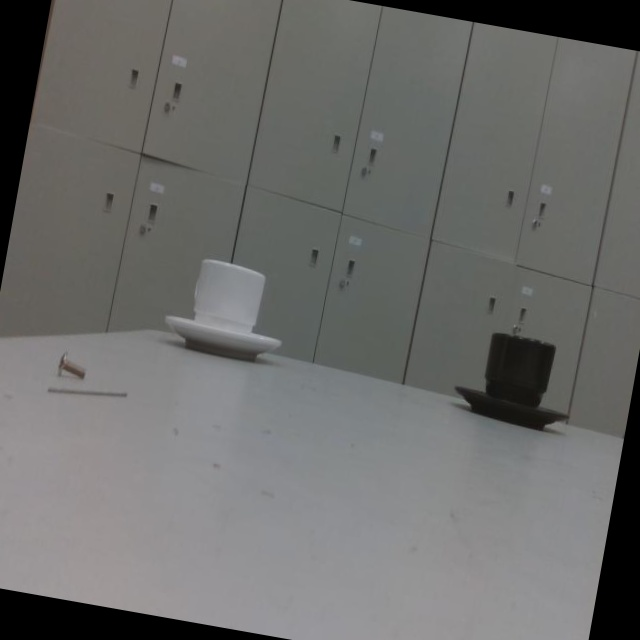black: (457, 334, 576, 428)
white: (167, 261, 288, 358)
